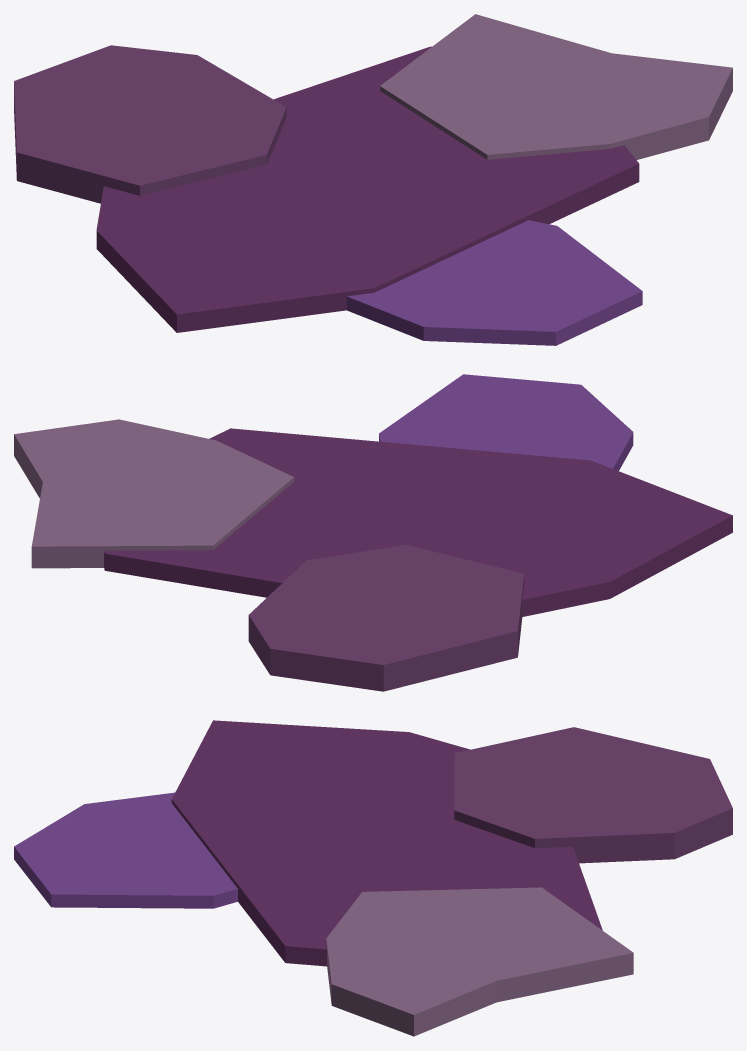
File: VL_Stone02.fbx
3 views of the same model, one above another, from view 1: azimuth 30°, elevation 25°; view 2: azimuth 150°, elevation 25°; view 3: azimuth 270°, elevation 25° (orthographic). The views are drawn at different scales.
Parts seen in each view (by area): view 1: VL_Stone02; view 2: VL_Stone02; view 3: VL_Stone02.
Boxes of the visible parts, x1,y1,x2,y2 form: VL_Stone02: (14, 14, 732, 345); VL_Stone02: (14, 374, 732, 691); VL_Stone02: (14, 720, 732, 1036).
Bounding box in the file's own units: 66.06 × 2.72 × 67.09.
1 material, 1 textured.
